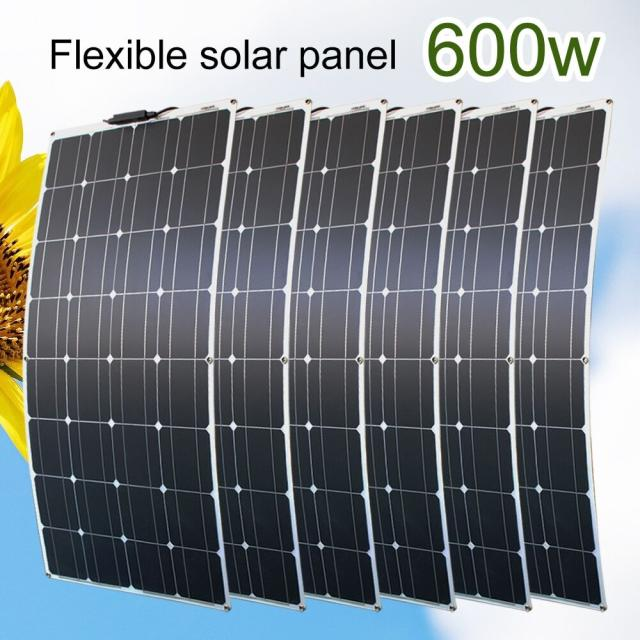clean-solar-panel: (25, 101, 233, 609)
